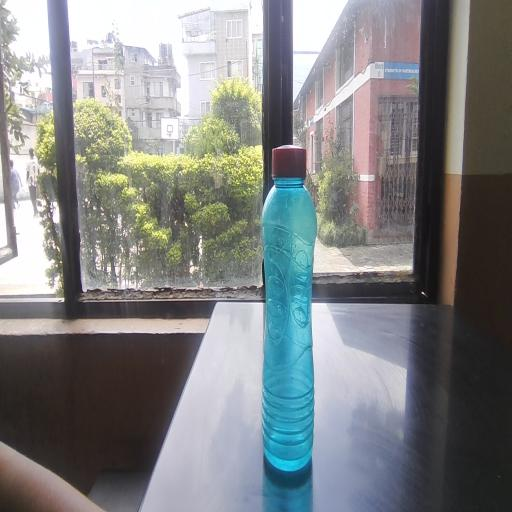Bottle: (265, 137, 322, 475)
